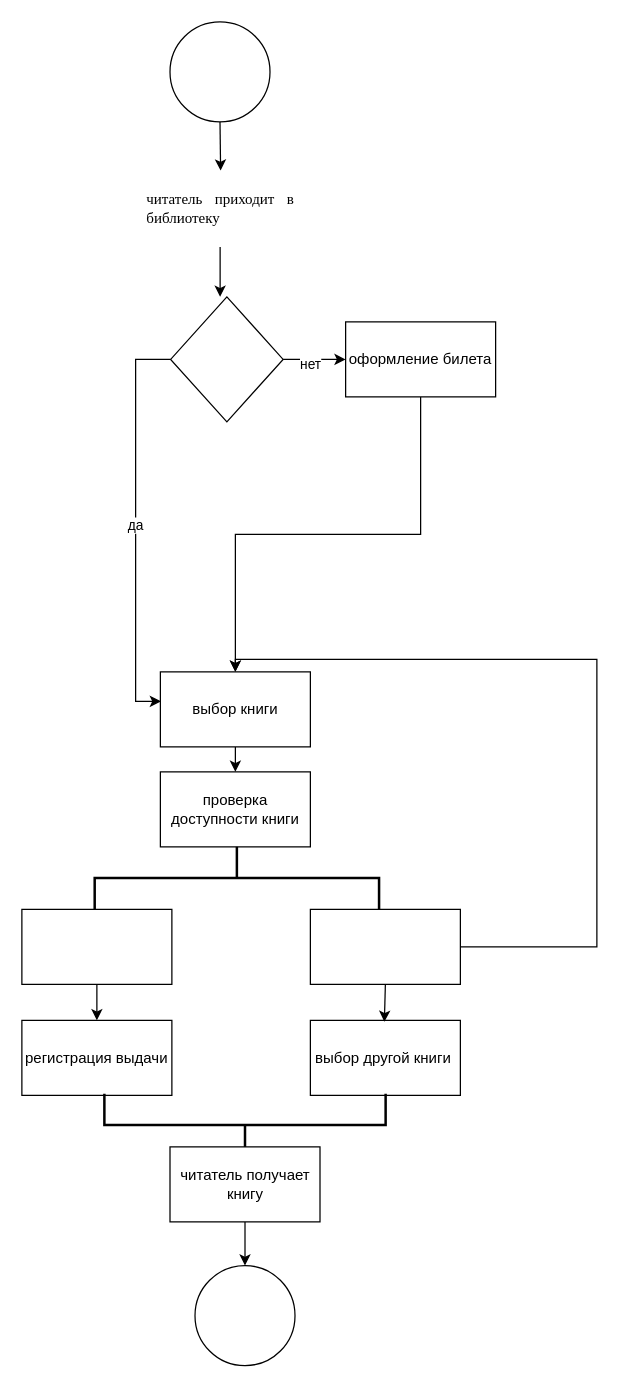
Image size: 629x1388. Some labels were removed from this diagram. The centre of each missing label's shape, as x and y in pixels:
доступна: pixel 96 946
недоступна: pixel 384 946
проверка наличии билета: pixel 226 359
